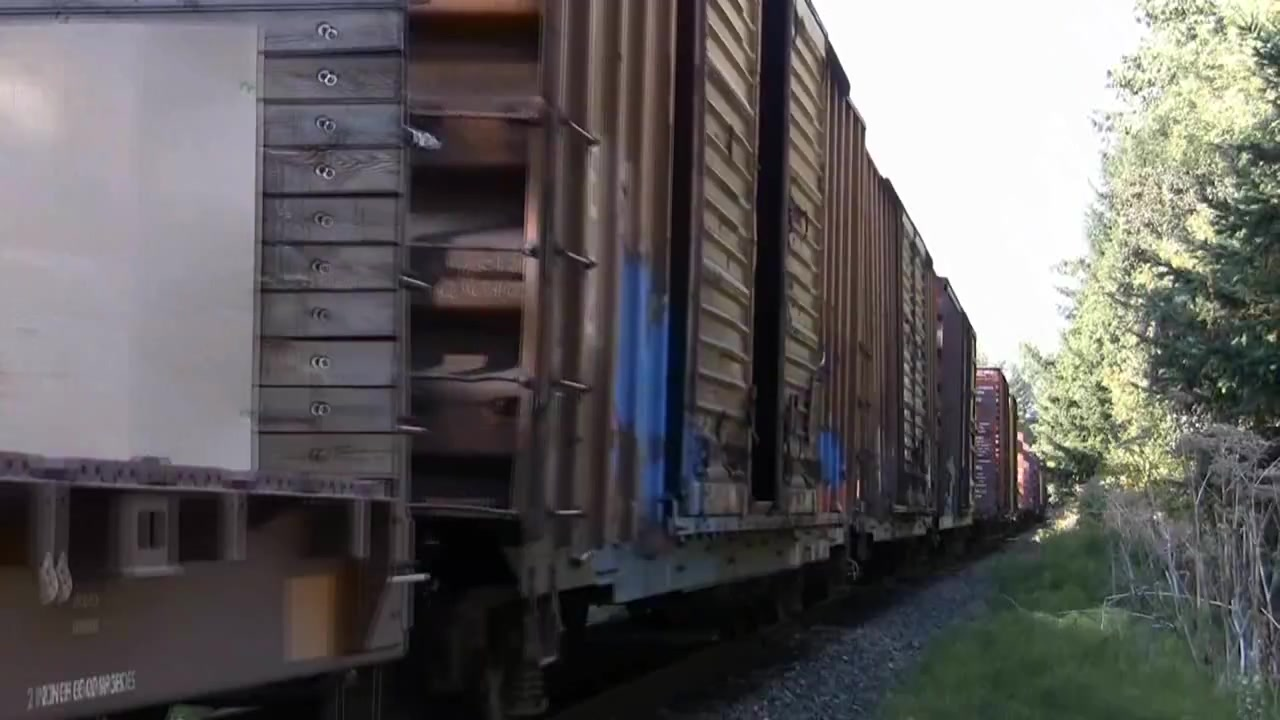train: (1, 1, 1054, 720)
